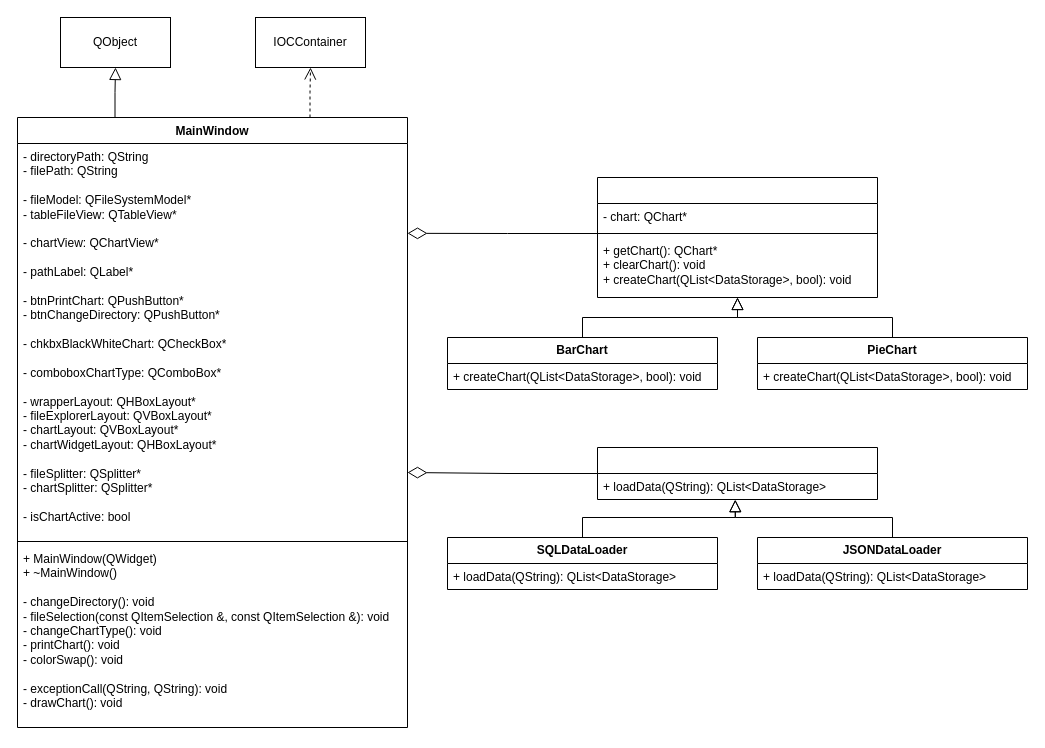
Some shapes in this 1045 by 748 pixel diagram are drawn without their labels. The shapes that lost their labels are listed below. From the top down, each one's box as (x1, y1, x2, y2) in pixels, then its label:
(596, 176, 878, 298): IChart
(596, 446, 878, 500): IDataLoader
